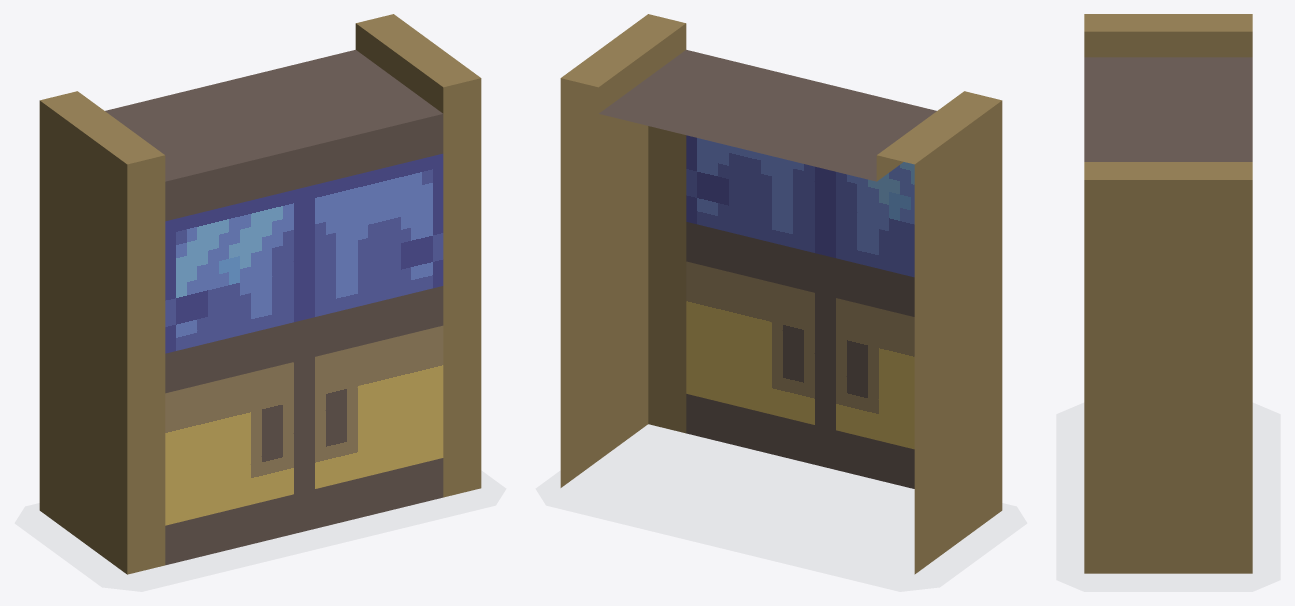
The model's file is Shelf 5.obj.
3 renders of one model, left to right at view 1: azimuth 30°, elevation 25°; view 2: azimuth 150°, elevation 25°; view 3: azimuth 270°, elevation 25°, orthographic. The views are drawn at different scales.
Visible parts, largest first — view 1: polygon1; view 2: polygon1; view 3: polygon1.
Boxes of the visible parts, left/top/right/bottom form: polygon1: left=39, top=14, right=481, bottom=574; polygon1: left=560, top=14, right=1002, bottom=574; polygon1: left=1084, top=14, right=1252, bottom=573.
Size of the model in its own units: 32 by 31.5 by 16.
